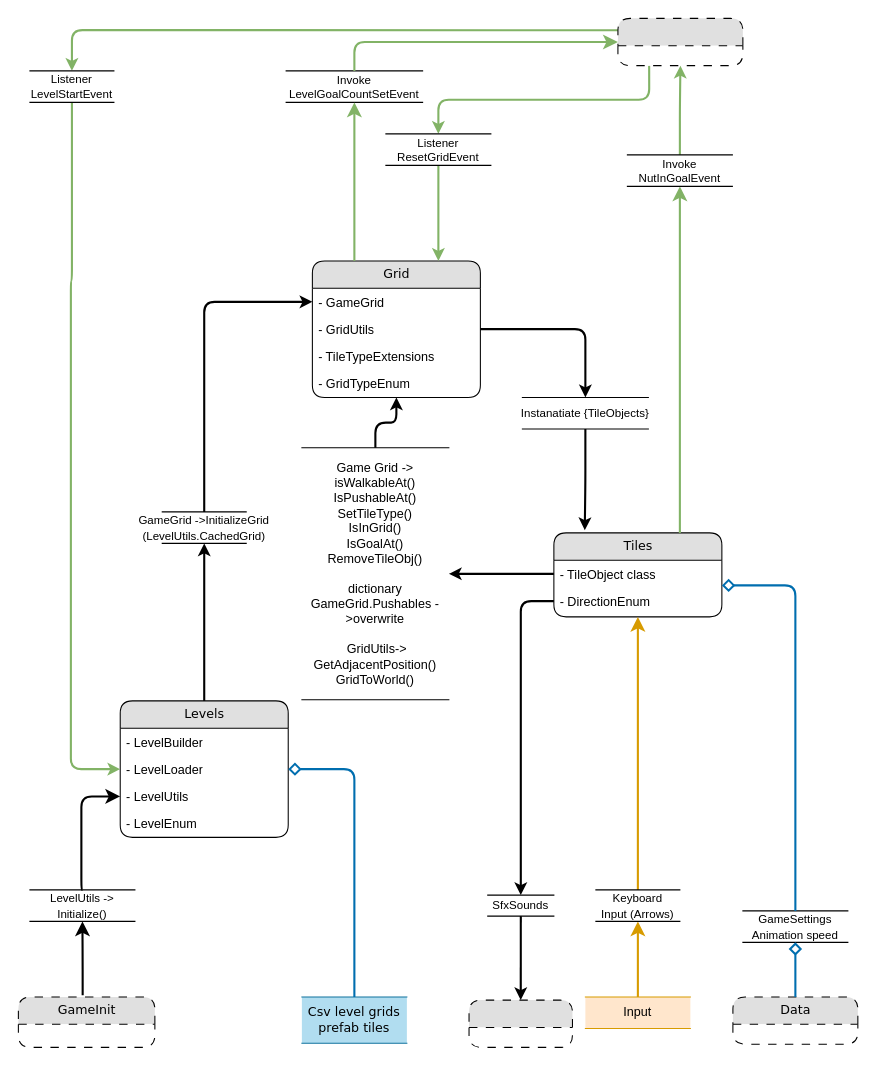
Some shapes in this 877 by 1066 pixel diagram are drawn without their labels. Here are the shapes that lost their labels. From the top down, the centre of each, then its label:
[680,41]: EventSystem
[520,1023]: Audio
